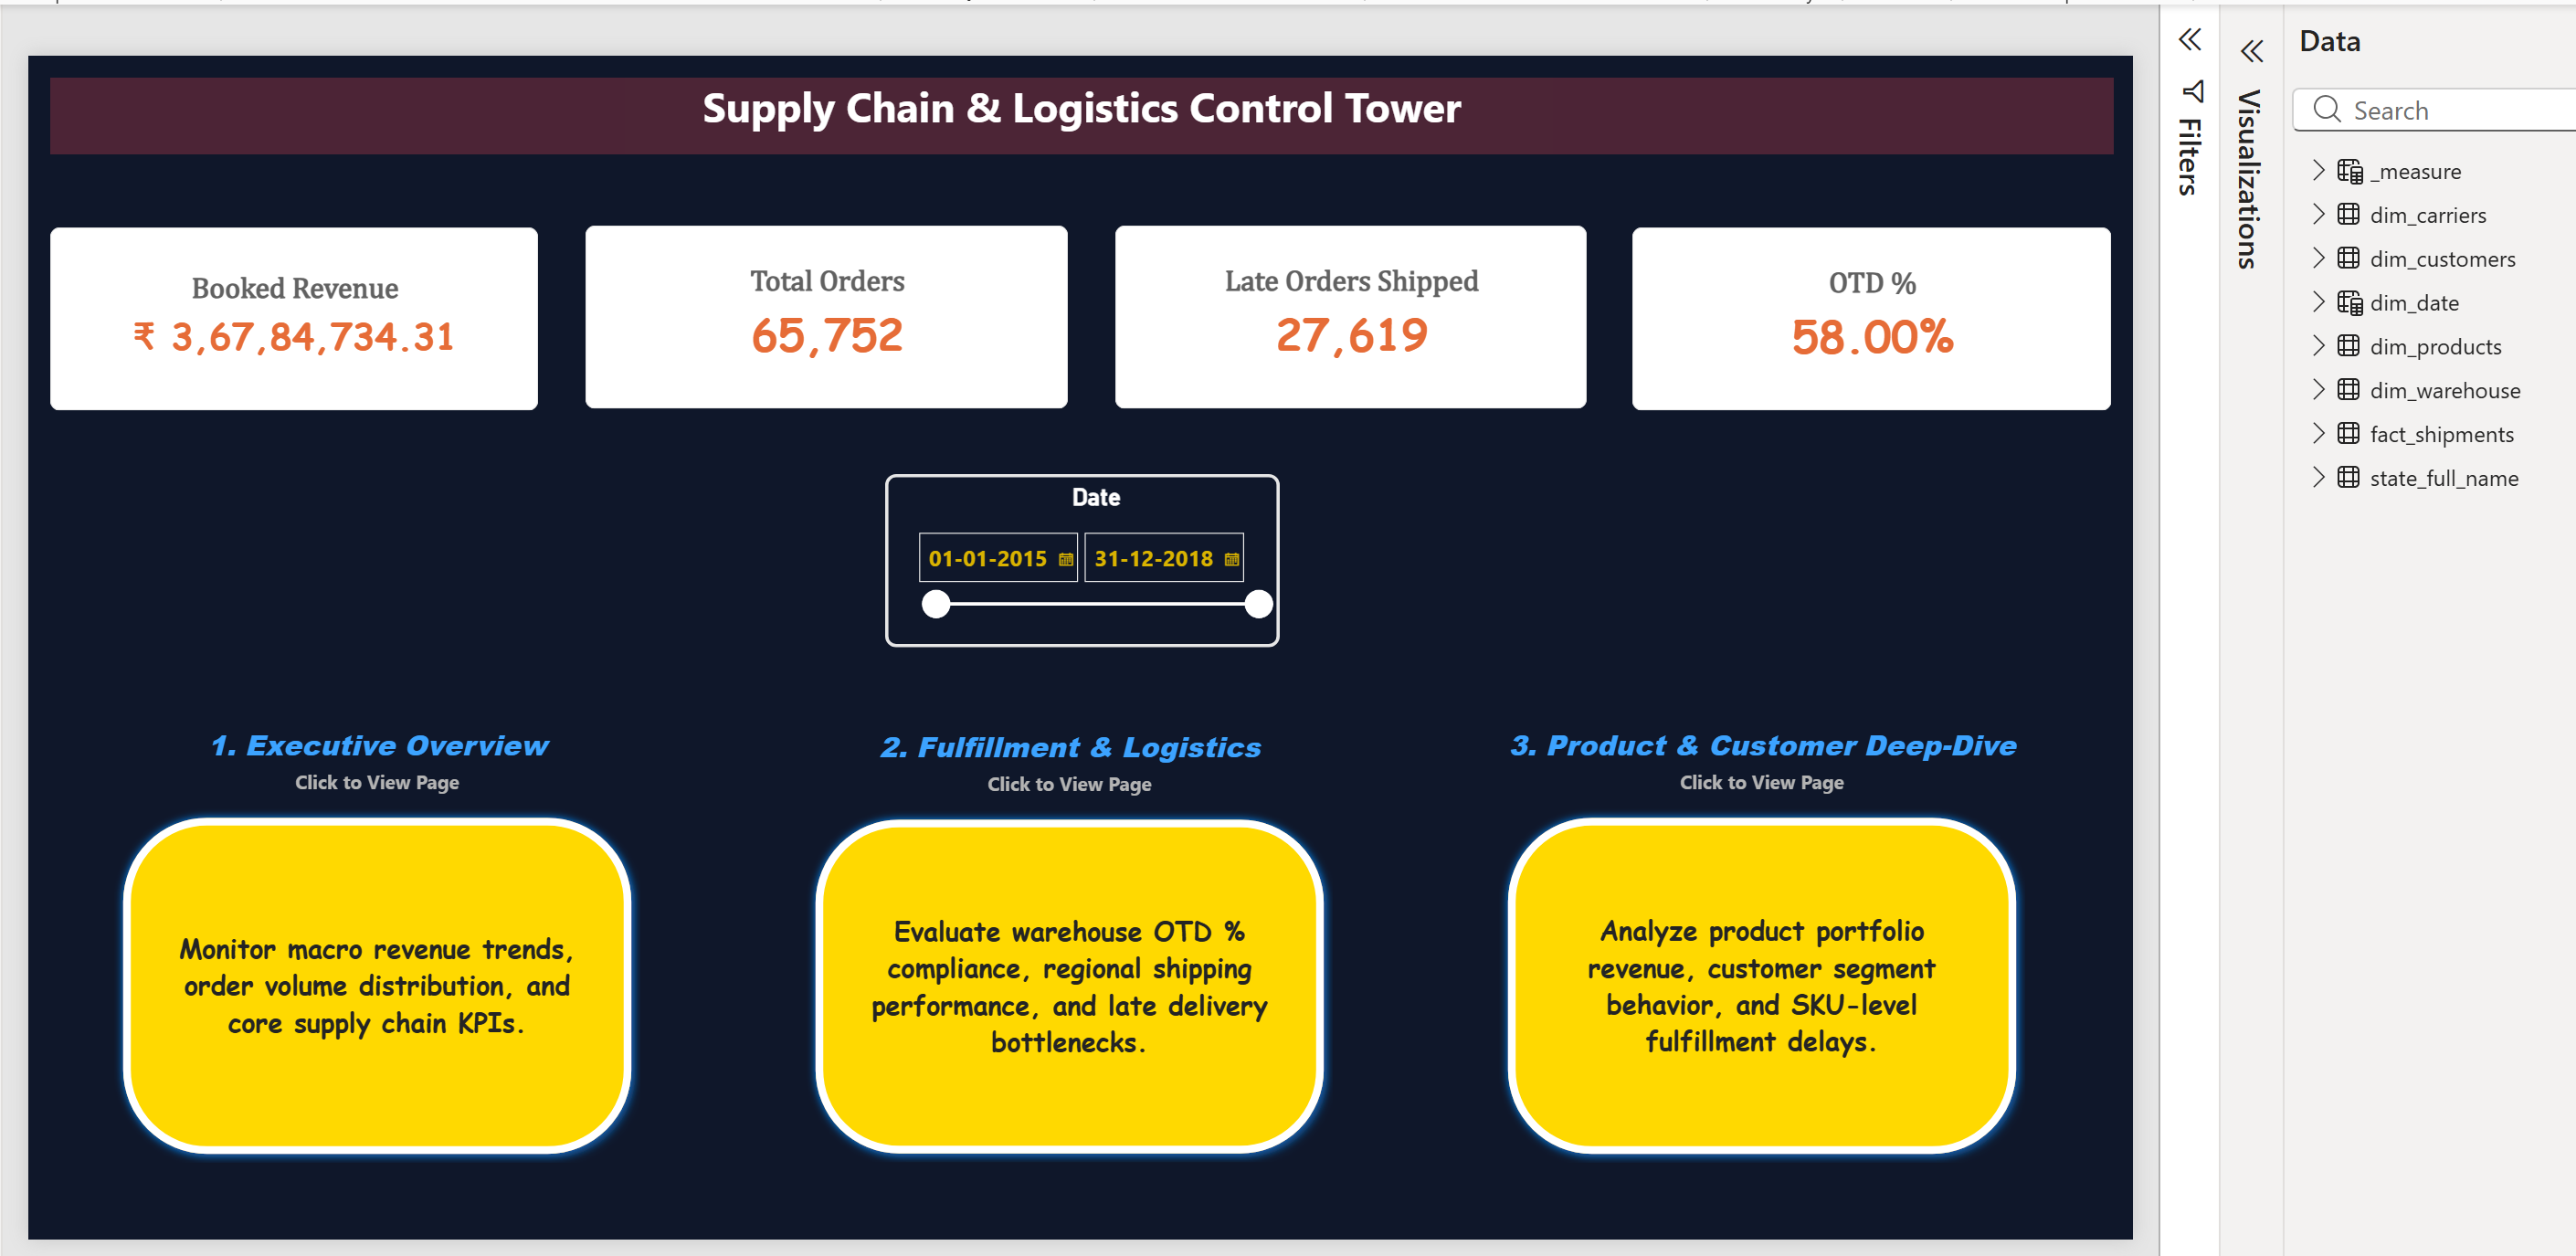

Layout of this report page (visuals, bound fields, positions):
{"tool":"powerbi","page":{"name":"Landing Page","canvas":[1920,1080],"ordinal":0},"visuals":[{"type":"textbox","box":[20,20,1882.5,70],"z":0},{"type":"cardVisual","fields":{"Data":["_measure.total_revenue"]},"box":[20,156,445,167.5],"z":1000},{"type":"cardVisual","fields":{"Data":["_measure.Total Orders Placed"]},"box":[508,155,440,167.5],"z":2000},{"type":"cardVisual","fields":{"Data":["_measure.Late Orders Shipped"]},"box":[991,155,430,167.5],"z":3000},{"type":"cardVisual","fields":{"Data":["_measure.on_time_delivery_rate %"]},"box":[1464,156,437.5,167.5],"z":4000},{"type":"actionButton","title":"1. Executive Overview","box":[78,610,480,400],"z":5000},{"type":"actionButton","title":"2. Fulfillment & Logistics","box":[710,612,480,398],"z":6000},{"type":"actionButton","title":"3. Product & Customer Deep-Dive","box":[1342,610,480,400],"z":7000},{"type":"slicer","title":"Date","fields":{"Values":["dim_date.Date"]},"box":[782,382,360,158],"z":8000}]}

Visuals, with their boxes on the page's 1920x1080 design canvas (x1, y1, x2, y2). These are canvas units, not pixel positions in the 2576x1256 screenshot, which may show the page scaled, cropped or inside an application window:
textbox: <region>20, 20, 1902, 90</region>
cardVisual - _measure.total_revenue: <region>20, 156, 465, 324</region>
cardVisual - _measure.Total Orders Placed: <region>508, 155, 948, 322</region>
cardVisual - _measure.Late Orders Shipped: <region>991, 155, 1421, 322</region>
cardVisual - _measure.on_time_delivery_rate %: <region>1464, 156, 1902, 324</region>
"1. Executive Overview" actionButton: <region>78, 610, 558, 1010</region>
"2. Fulfillment & Logistics" actionButton: <region>710, 612, 1190, 1010</region>
"3. Product & Customer Deep-Dive" actionButton: <region>1342, 610, 1822, 1010</region>
"Date" slicer: <region>782, 382, 1142, 540</region>
